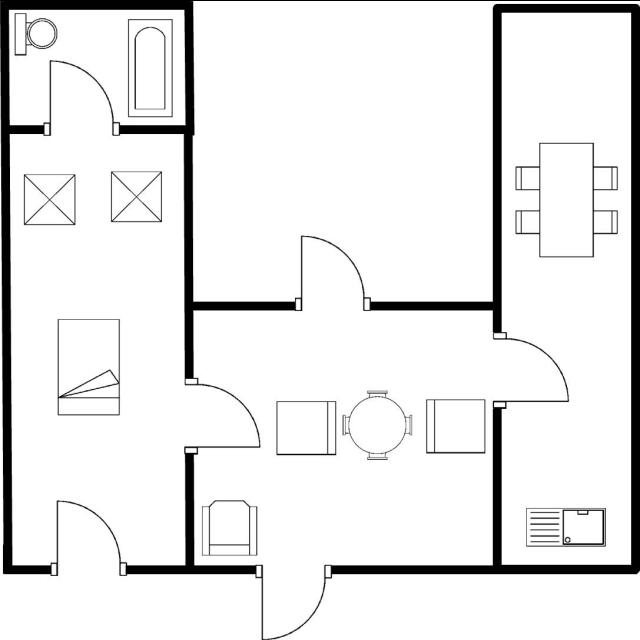armchair: (198, 496, 262, 558)
bed: (53, 312, 124, 421)
coffee_table: (106, 166, 166, 226), (18, 170, 80, 228)
dining_table: (509, 136, 624, 262)
large_sink: (12, 11, 59, 58)
round_table: (340, 382, 418, 464)
sink: (520, 503, 614, 551)
small_sofa: (422, 394, 489, 458), (273, 396, 339, 458)
tub: (124, 15, 176, 120)
